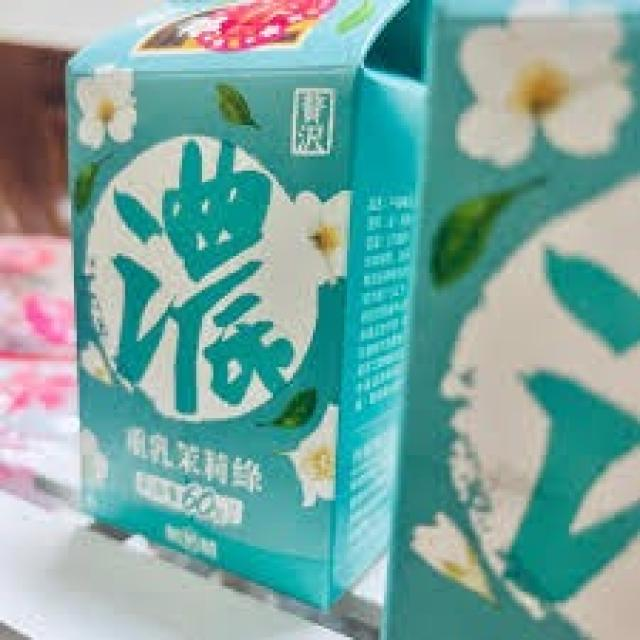Known_MilkGreenTea: (74, 8, 388, 562), (431, 10, 640, 638)
